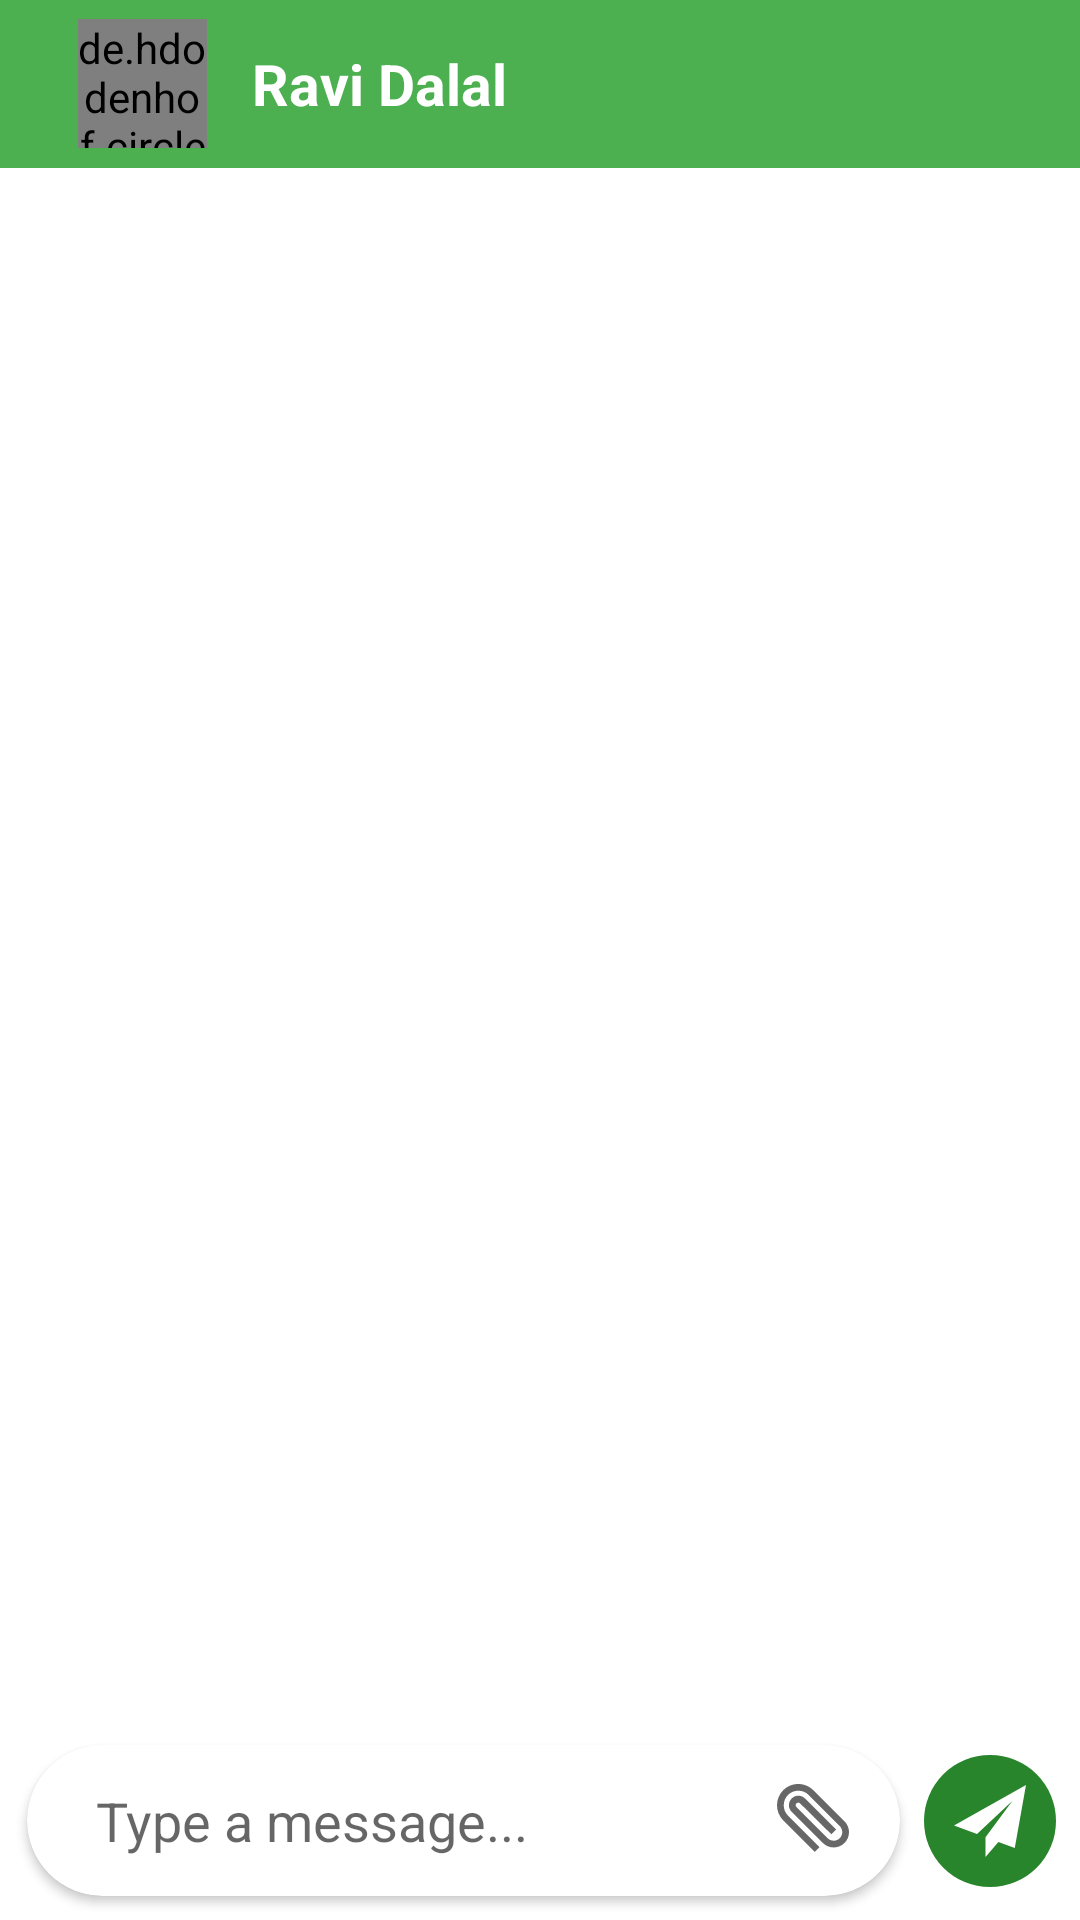

Point at icon controls on the screen. Image size 1080w x 1920h, points as (x=x, y=y).
attachment: (x=813, y=1818)
send: (x=990, y=1821)
